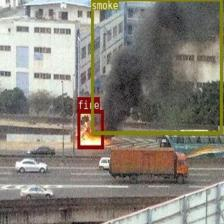fire: (77, 110, 103, 148)
smoke: (90, 0, 222, 134)
